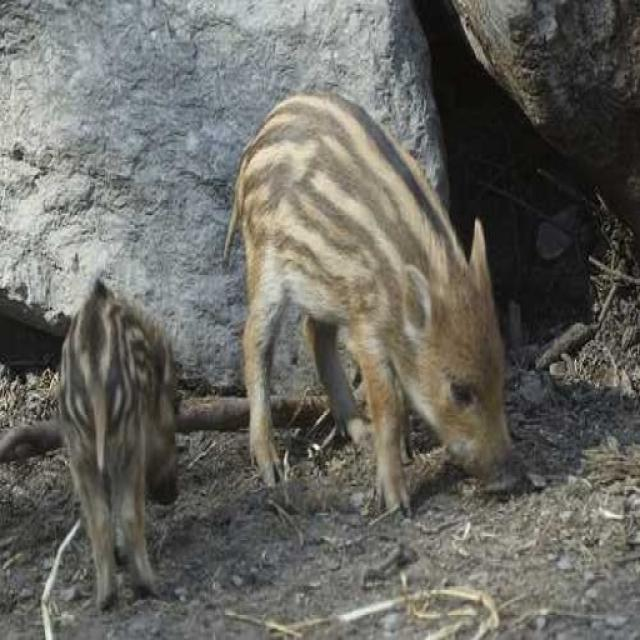pig: (221, 80, 556, 534)
